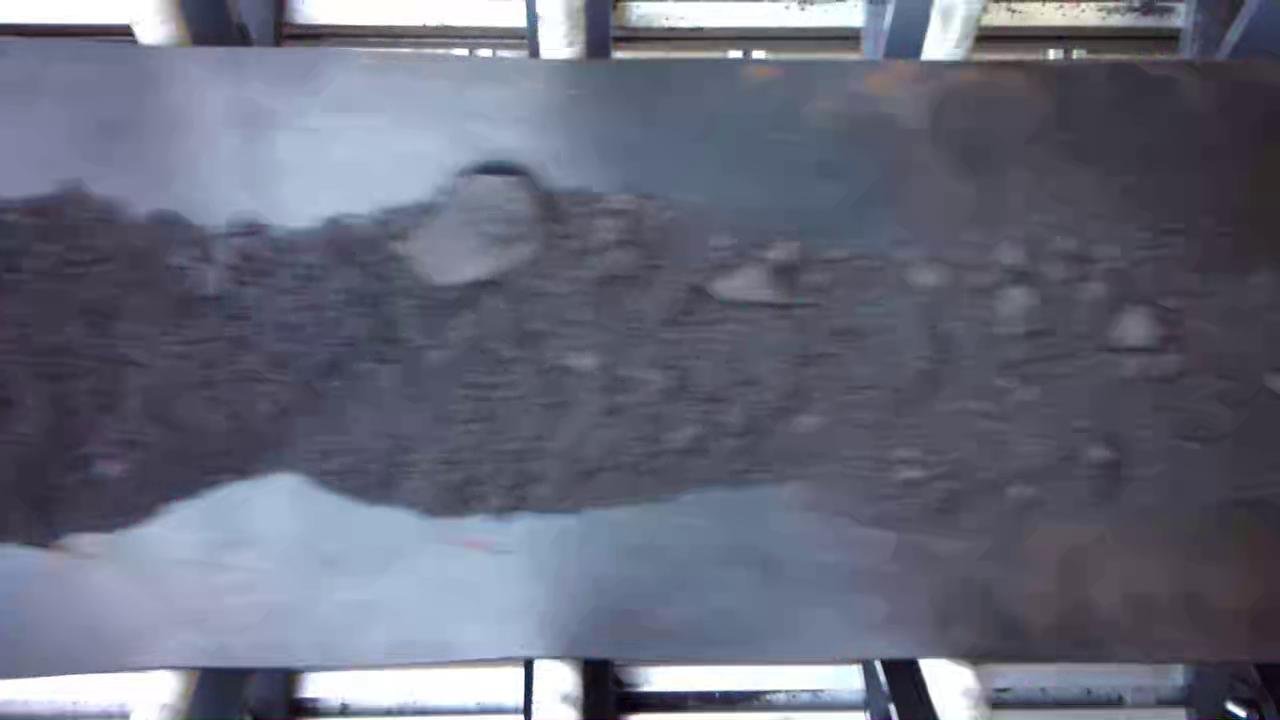conveyor: (3, 62, 1280, 654)
